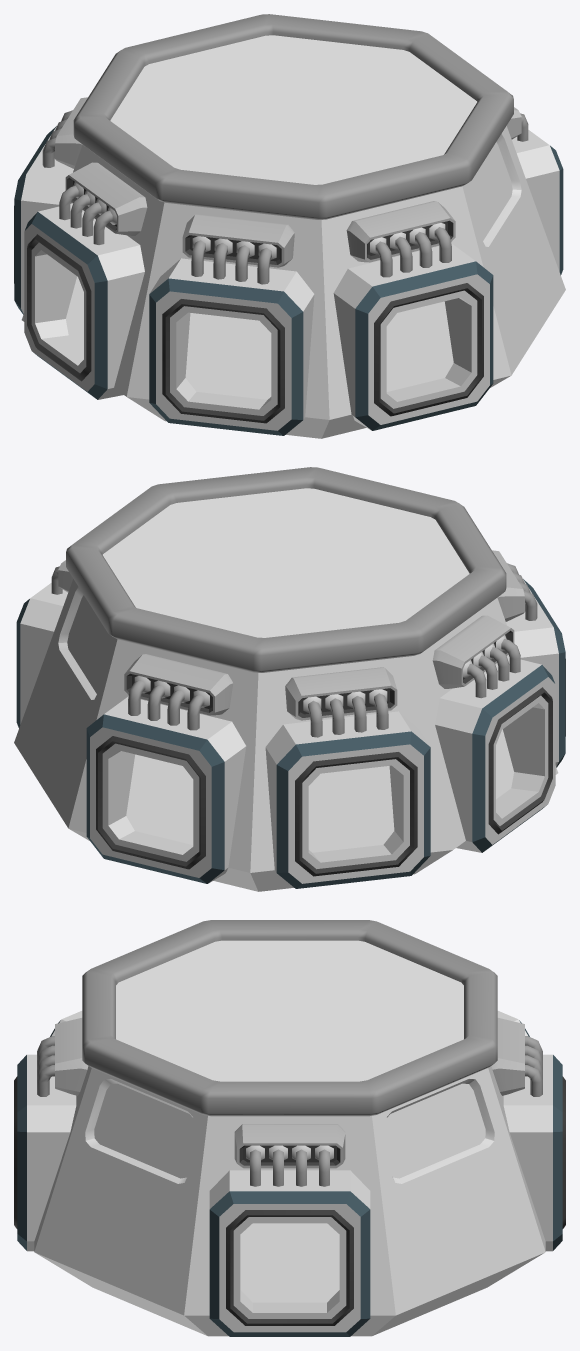
File: section_008.fbx
3 renders of one model, top to bottom at view 1: azimuth 30°, elevation 25°; view 2: azimuth 150°, elevation 25°; view 3: azimuth 270°, elevation 25°, orthographic.
Visible parts, largest first — view 1: section_008; view 2: section_008; view 3: section_008.
Boxes of the visible parts, left/top/right/bottom form: section_008: left=14, top=14, right=565, bottom=438; section_008: left=14, top=467, right=565, bottom=891; section_008: left=14, top=920, right=565, bottom=1336.
Bounding box in the file's own units: 1318 × 1318 × 652.
